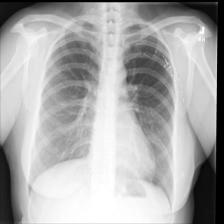normal: (27, 18, 175, 205)
